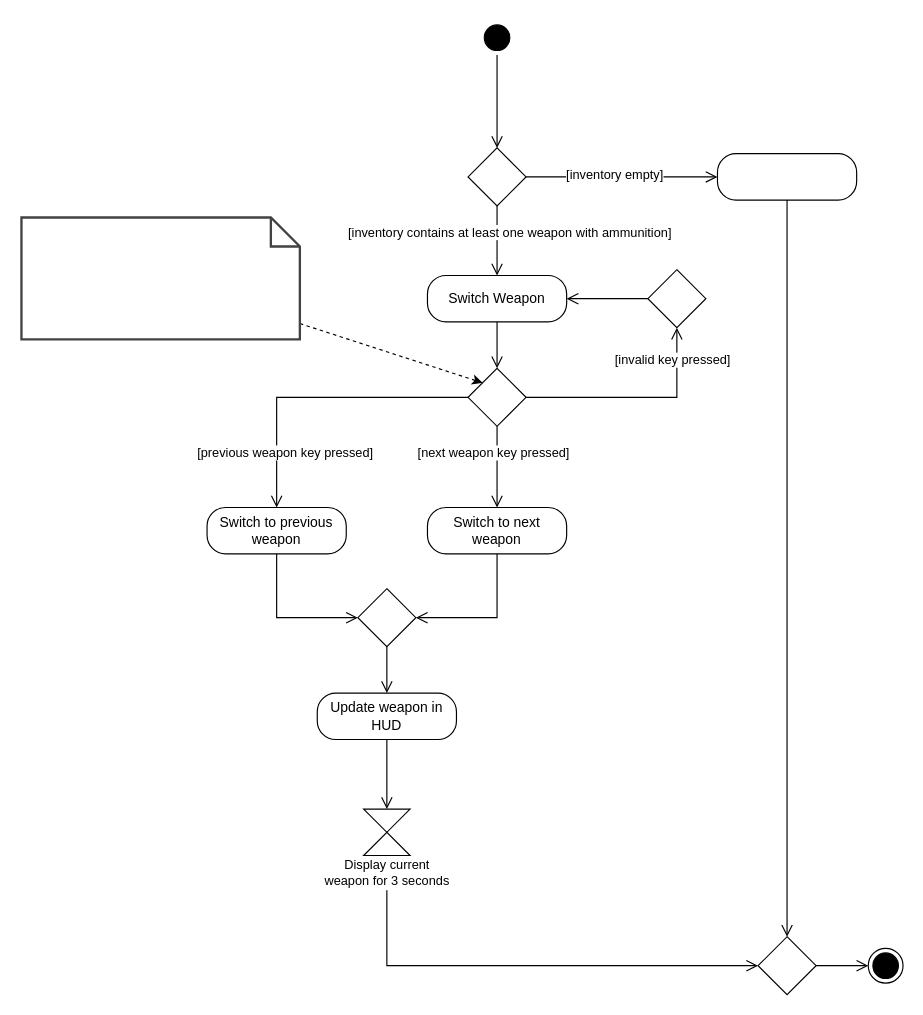
This 923x1015 diagram has some shape labels left out. Each missing label, with the centre of its shape:
"Default Values: next weapon key : TAB previous weapon key : TAB + Shift" belongs at point 160,278.
"Display Error Message" belongs at point 786,176.
